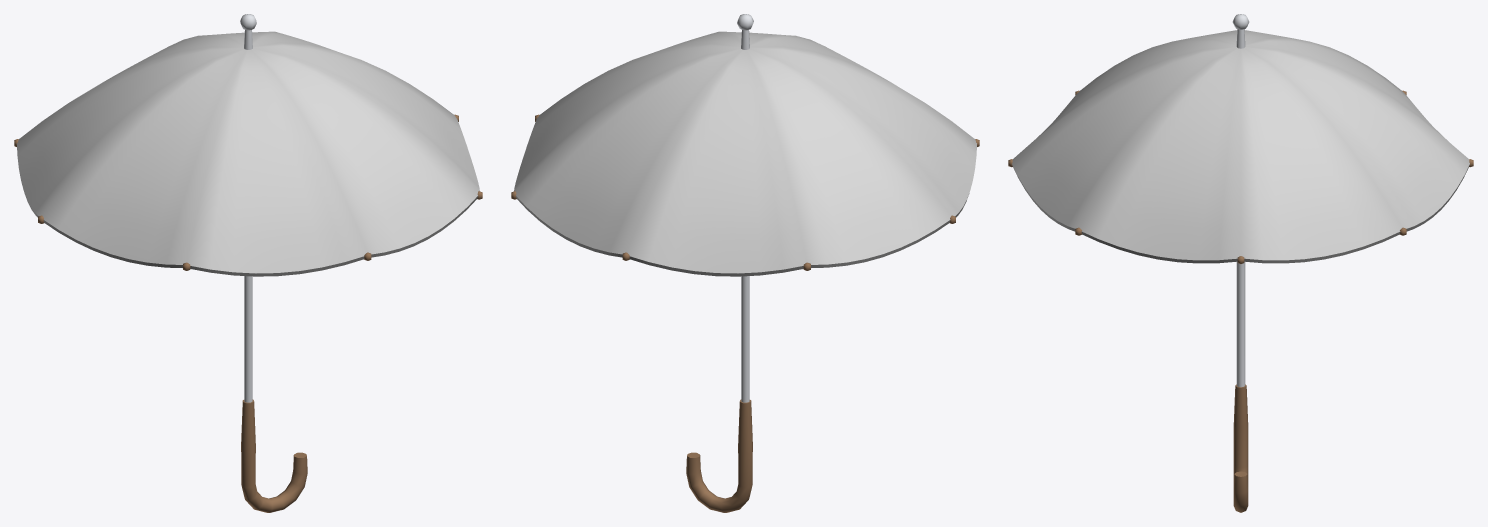
Rendered from RainUmbrellaV3.fbx.
3 views of the same model, side by side, from view 1: azimuth 30°, elevation 25°; view 2: azimuth 150°, elevation 25°; view 3: azimuth 270°, elevation 25° (orthographic). The views are drawn at different scales.
Visible parts, largest first — view 1: RainUmbrellaV3; view 2: RainUmbrellaV3; view 3: RainUmbrellaV3.
Part boxes in pixels (box(x1,y1,x2,y2)): RainUmbrellaV3: box(14, 14, 482, 512); RainUmbrellaV3: box(511, 14, 979, 512); RainUmbrellaV3: box(1008, 14, 1473, 512).
Size of the model in its own units: 1.21 by 1.39 by 1.21.
